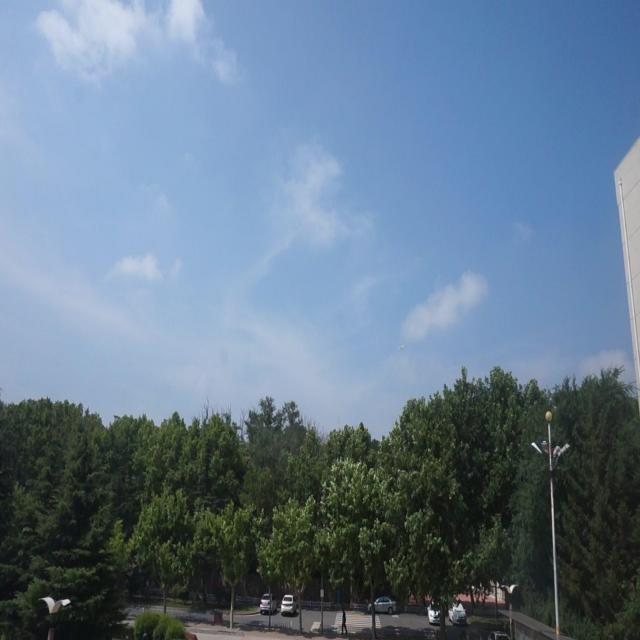UAV: (398, 345, 405, 350)
